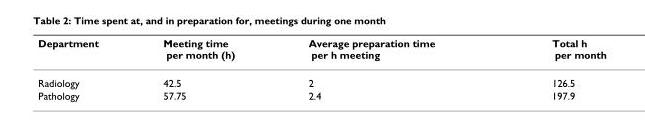table: (37, 36, 605, 101)
table column: (270, 36, 492, 101), (130, 36, 270, 101), (492, 36, 605, 101), (37, 36, 130, 101)
table column header: (37, 36, 605, 68)
table row: (37, 36, 605, 68), (37, 68, 605, 88), (37, 88, 605, 101)
